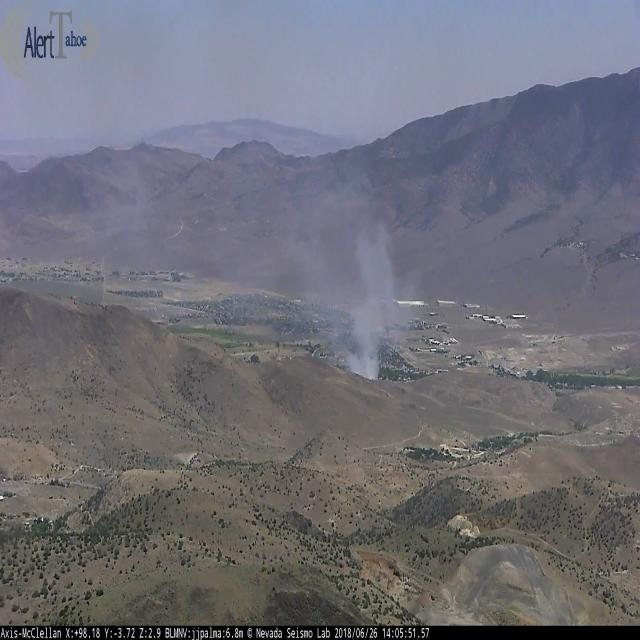smoke: (333, 223, 412, 379)
